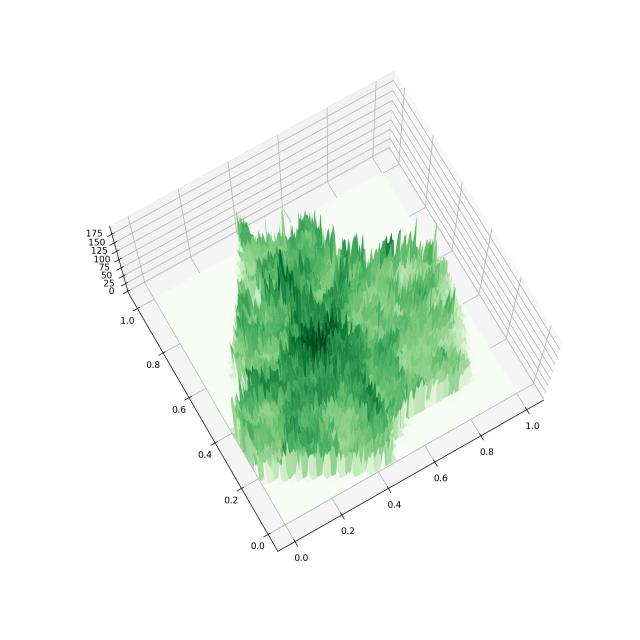spruce: (58, 57, 590, 578)
